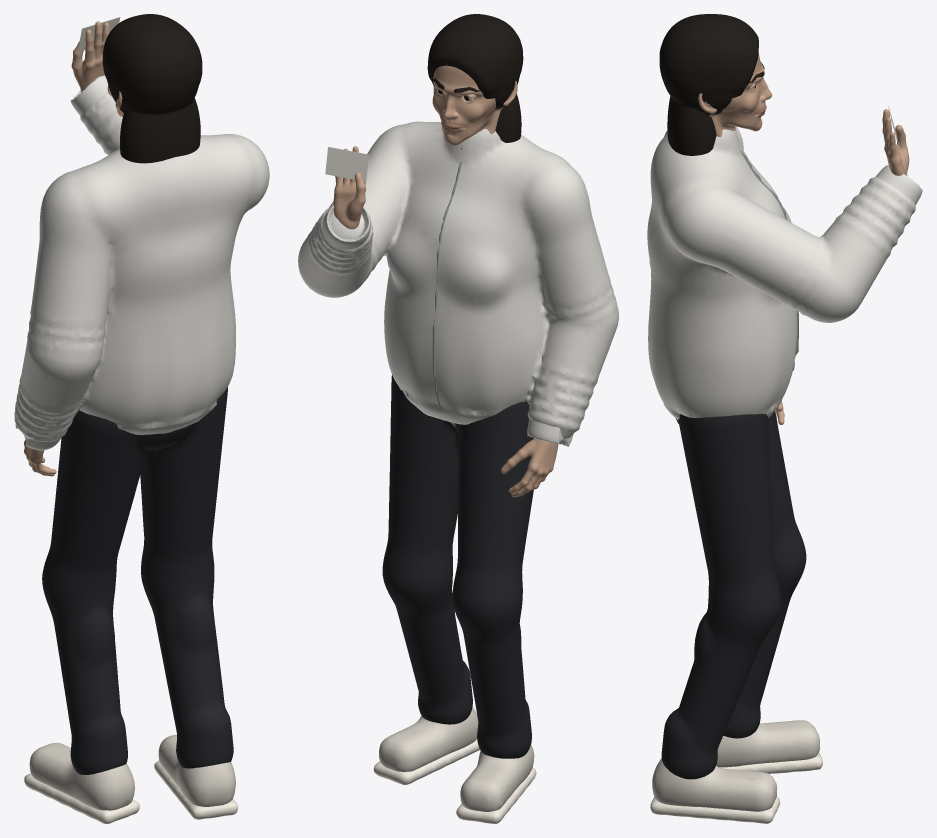
The model's file is girl_puffer.glb.
The picture shows the model from 3 angles, left to right: view 1: azimuth 30°, elevation 25°; view 2: azimuth 150°, elevation 25°; view 3: azimuth 270°, elevation 25°; orthographic projection. The views are drawn at different scales.
Parts seen in each view (by area): view 1: girl_puffer_body, girl_puffer_head, girl_puffer_hands; view 2: girl_puffer_body, girl_puffer_head, girl_puffer_hands, card; view 3: girl_puffer_body, girl_puffer_head, girl_puffer_hands.
Part boxes in pixels (x1,y1,x2,y2): girl_puffer_body: [14, 91, 269, 823]; girl_puffer_head: [102, 14, 202, 163]; girl_puffer_hands: [15, 21, 110, 476]; girl_puffer_body: [298, 121, 618, 823]; girl_puffer_head: [427, 14, 523, 149]; girl_puffer_hands: [322, 146, 573, 497]; card: [325, 147, 368, 181]; girl_puffer_body: [647, 126, 915, 823]; girl_puffer_head: [659, 14, 772, 155]; girl_puffer_hands: [775, 109, 922, 424].
Size of the model in its own units: 0.5346 by 1.58 by 0.5134.
